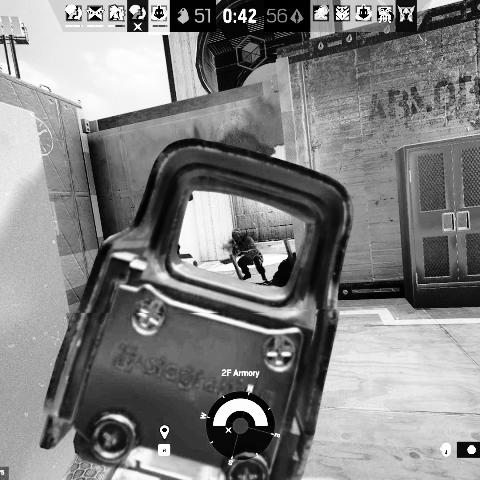Character: (228, 228, 269, 282)
Head: (231, 228, 243, 243)
